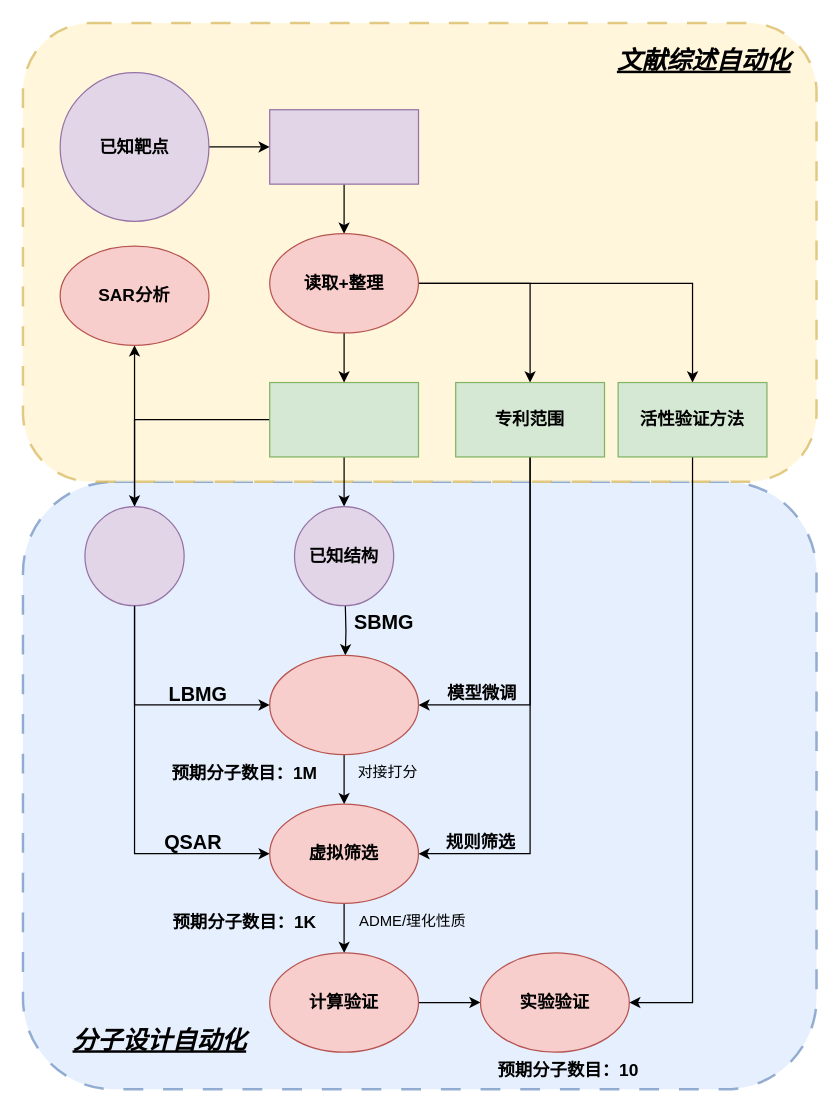
Image size: 838x1111. Some labels were removed from this diagram. Here are the shapes that lost their labels. From the top down, the centre of each, then its label:
[343,146]: 专利&文献
[343,419]: 活性数据
[134,555]: 已知分子
[343,704]: 分子生成
